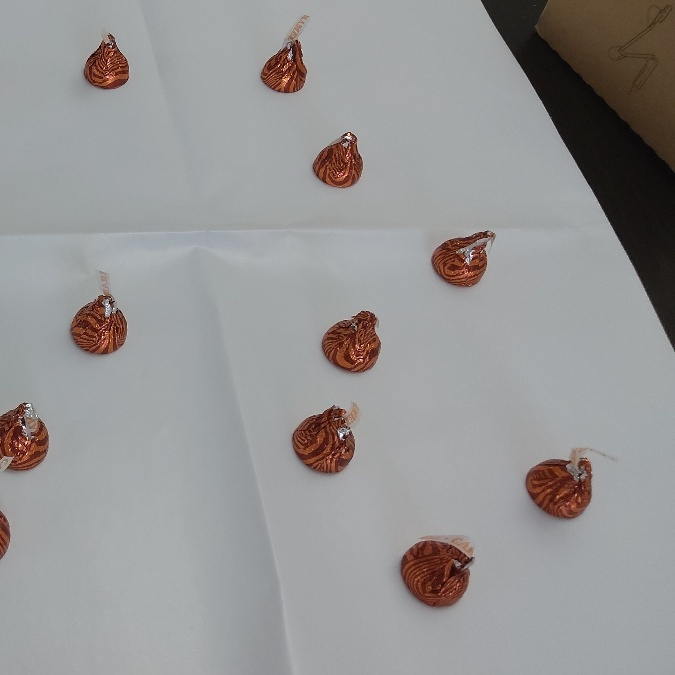chocolate_gold: (519, 450, 593, 522), (398, 539, 472, 611), (290, 407, 364, 479), (67, 291, 133, 360), (318, 308, 383, 377), (77, 31, 136, 96), (309, 127, 368, 192), (256, 33, 314, 98), (430, 227, 488, 291)
